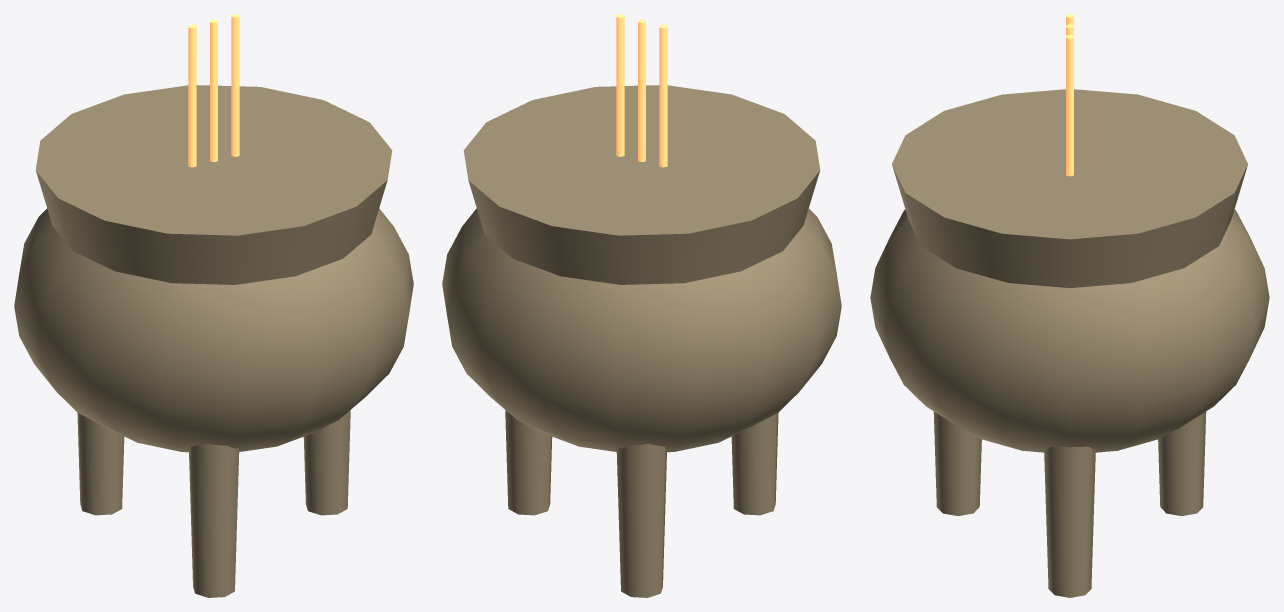
The model's file is incense_burner.glb.
The picture shows the model from 3 angles, left to right: view 1: azimuth 30°, elevation 25°; view 2: azimuth 150°, elevation 25°; view 3: azimuth 270°, elevation 25°; orthographic projection.
Visible parts, largest first — view 1: AncientBronzeCenser, GlowingIncenseSticks; view 2: AncientBronzeCenser, GlowingIncenseSticks; view 3: AncientBronzeCenser, GlowingIncenseSticks.
Part boxes in pixels (bbox=[...]): AncientBronzeCenser: bbox=[14, 85, 413, 597]; GlowingIncenseSticks: bbox=[188, 14, 239, 167]; AncientBronzeCenser: bbox=[442, 85, 841, 597]; GlowingIncenseSticks: bbox=[616, 14, 667, 167]; AncientBronzeCenser: bbox=[870, 89, 1269, 597]; GlowingIncenseSticks: bbox=[1066, 14, 1073, 176].
Size of the model in its own units: 1.3 by 1.83 by 1.3.
